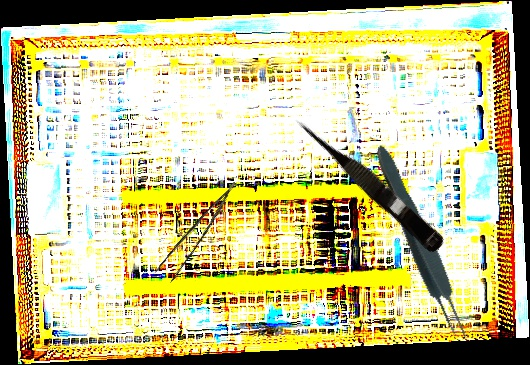Micro Scissor: (289, 108, 450, 256)
Tissue Forceps: (366, 140, 475, 348), (150, 181, 251, 287)
